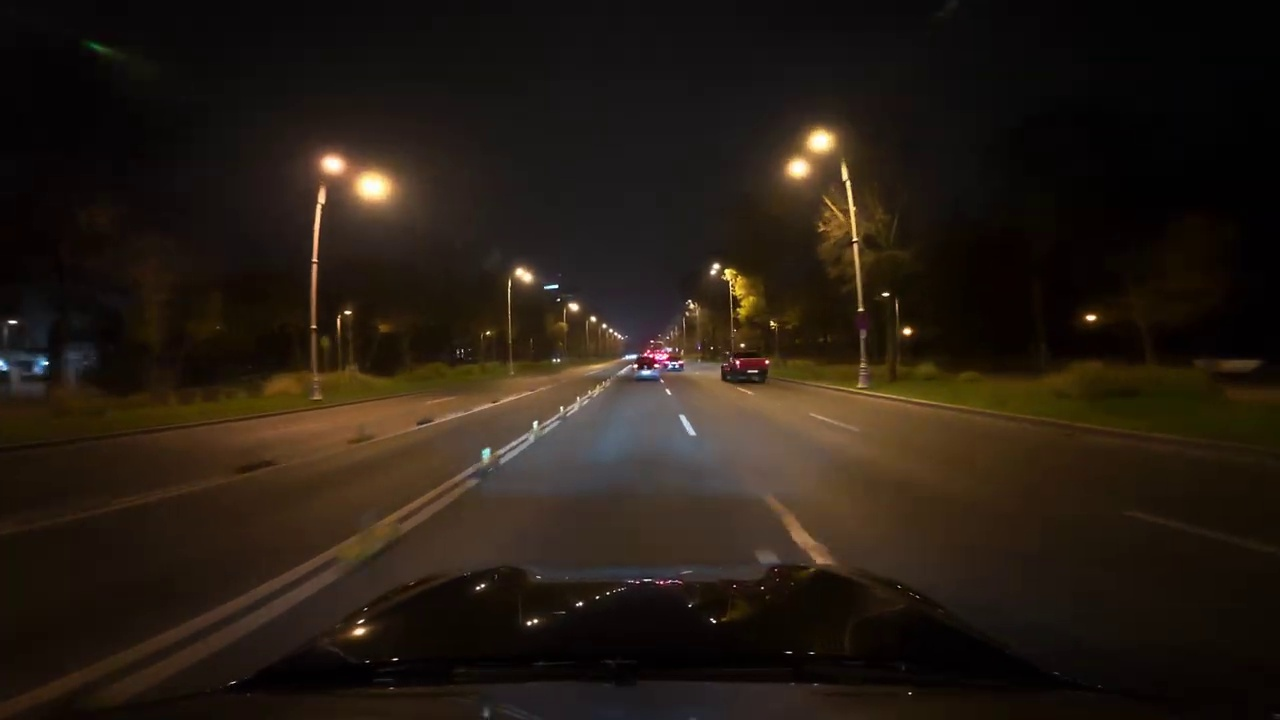acesa: (317, 152, 396, 199), (793, 129, 837, 174), (354, 170, 394, 205), (784, 154, 816, 183), (802, 128, 837, 154), (319, 152, 348, 177), (511, 264, 536, 288)
